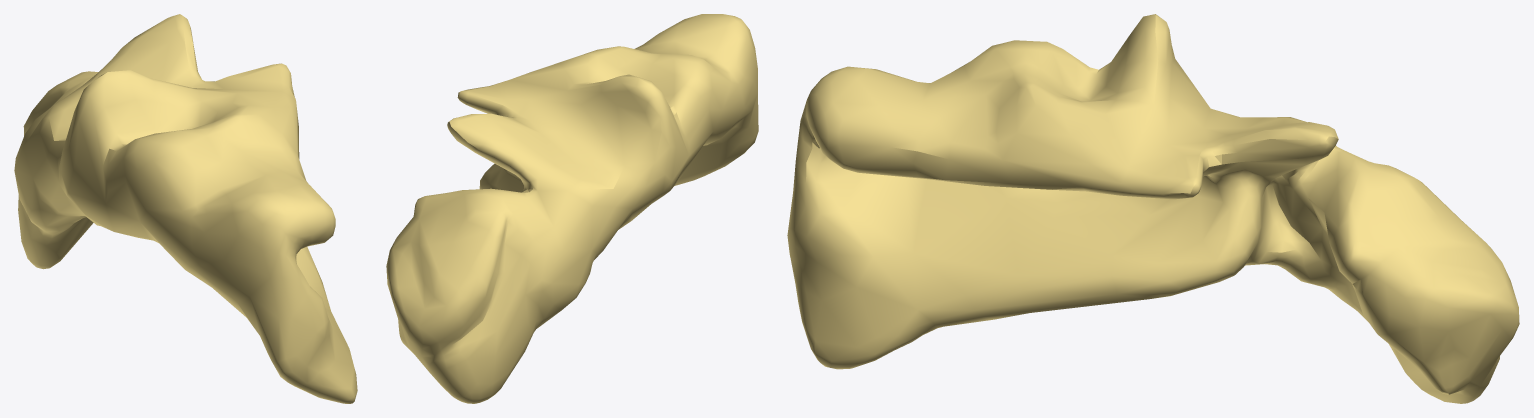
File: fma72804_fj1840.glb
3 renders of one model, left to right at view 1: azimuth 30°, elevation 25°; view 2: azimuth 150°, elevation 25°; view 3: azimuth 270°, elevation 25°, orthographic. The views are drawn at different scales.
Parts seen in each view (by area): view 1: FMA72804_FJ1840; view 2: FMA72804_FJ1840; view 3: FMA72804_FJ1840.
Part boxes in pixels (box(x1,y1,x2,y2)): FMA72804_FJ1840: box(14, 14, 357, 403); FMA72804_FJ1840: box(386, 14, 758, 403); FMA72804_FJ1840: box(787, 14, 1519, 403).
Size of the model in its own units: 0.0319 by 0.0389 by 0.0739.
